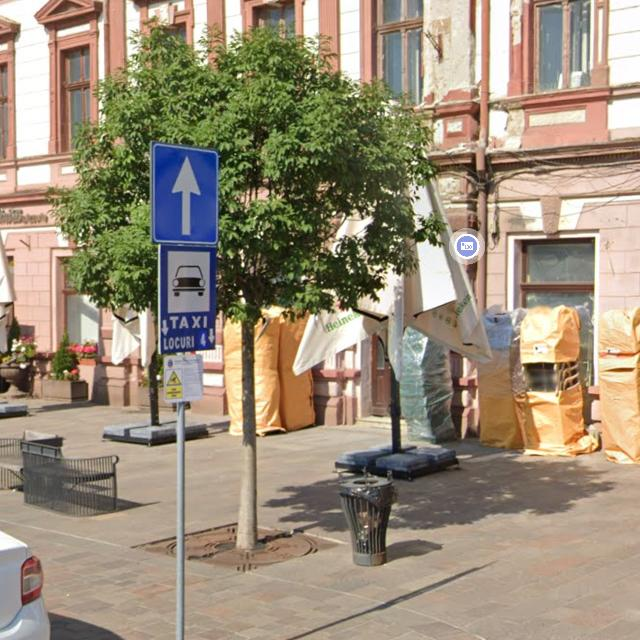info_one_way_traffic: (150, 141, 220, 246)
info_taxi_parking: (156, 242, 219, 355)
